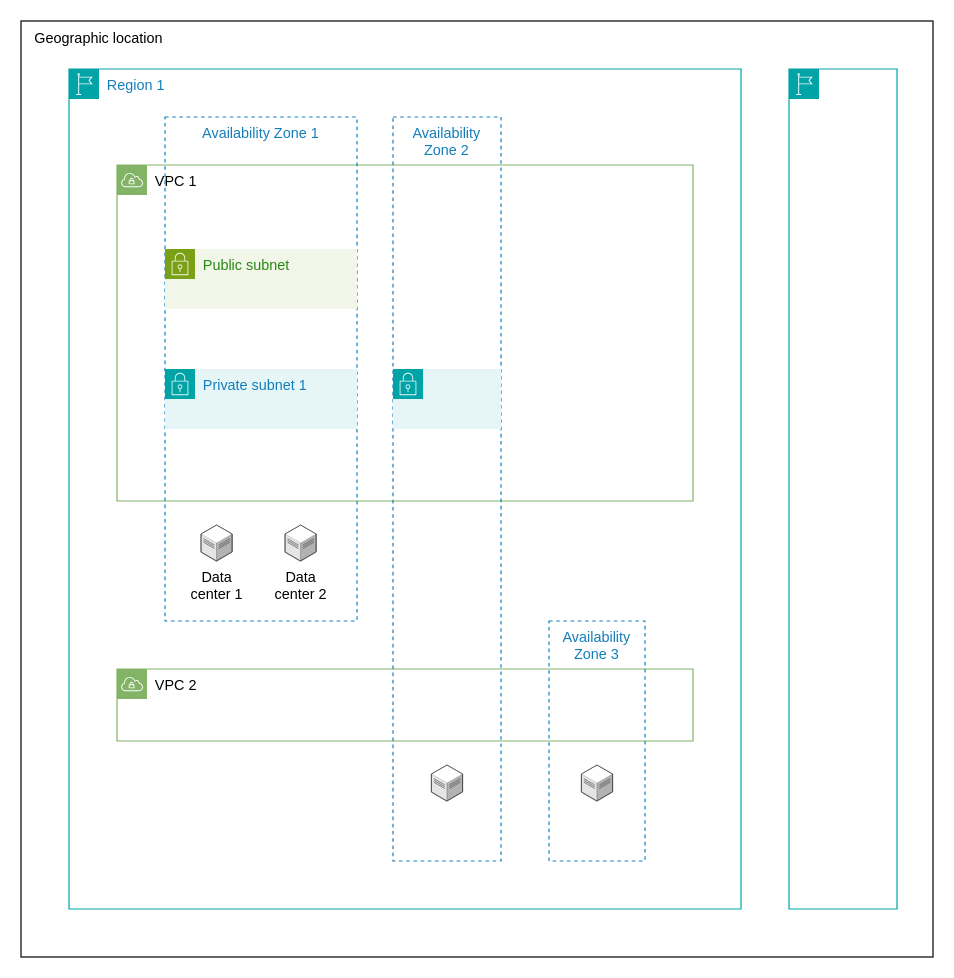
Some shapes in this 954 by 978 pixel diagram are drawn without their labels. The centre of each missing label's shape, as x and y in pixels:
Data center 3: the point at 446,782
Data center 4: the point at 596,782
Private subnet 2: the point at 446,398
Region 2: the point at 842,488
